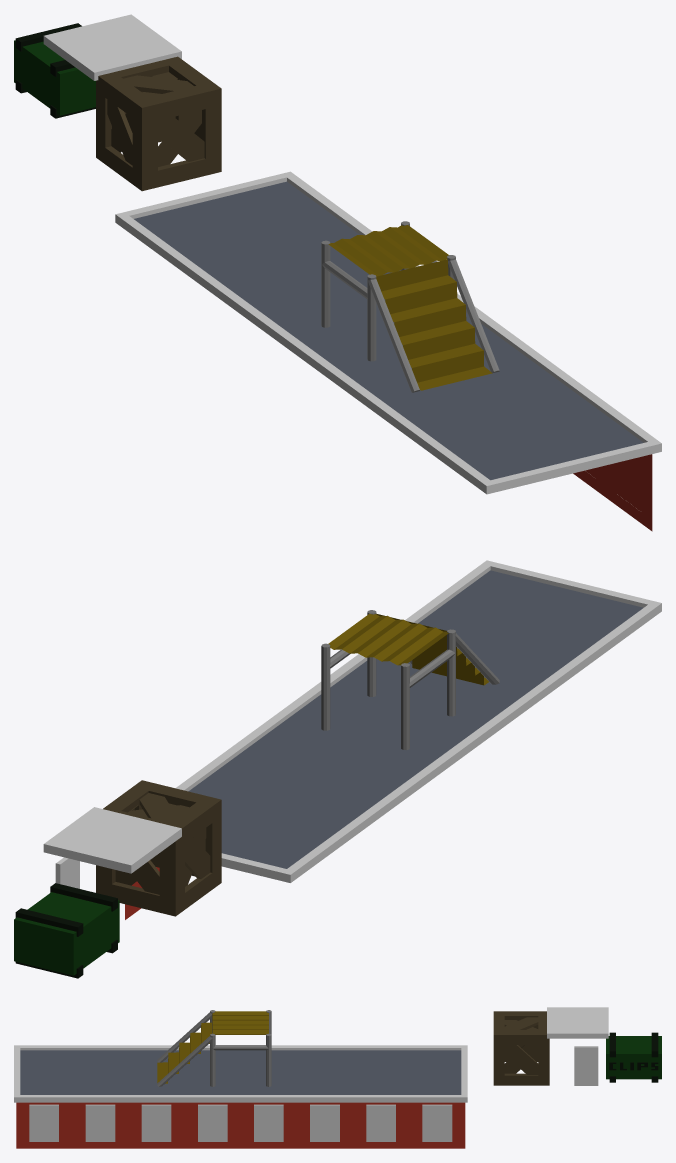
Rendered from cityscape.obj.
3 renders of one model, top to bottom at view 1: azimuth 30°, elevation 25°; view 2: azimuth 150°, elevation 25°; view 3: azimuth 270°, elevation 25°, orthographic. The views are drawn at different scales.
Parts seen in each view (by area): view 1: Plane.003_Plane.004, Crate_Cube.007, Edge.001_Cube.001, Plane.001_Plane.002, Edge_Cube.010, Ammo_Box_Cube.002, Plane_Plane.001, Plane.002_Plane.003, Supports.002_Cylinder.002, Supports_Cylinder, Bar_Cube.003; view 2: Plane.003_Plane.004, Edge.001_Cube.001, Crate_Cube.007, Ammo_Box_Cube.002, Edge_Cube.010, Plane_Plane.001, Supports_Cylinder, Bar_Cube.003, Plane.001_Plane.002, Supports.001_Cylinder.001, Door_Cube.011; view 3: Plane.003_Plane.004, Plane.002_Plane.003, Cube_Cube.004, Edge.001_Cube.001, Crate_Cube.007, Ammo_Box_Cube.002, Edge_Cube.010, Plane_Plane.001, Door_Cube.011, Plane.001_Plane.002, Supports.002_Cylinder.002, Supports_Cylinder (+2 smaller).
Part boxes in pixels (x1,y1,x2,y2): Plane.003_Plane.004: (134,181,643,480); Crate_Cube.007: (96,56,221,191); Edge.001_Cube.001: (115,171,661,494); Plane.001_Plane.002: (376,259,492,390); Edge_Cube.010: (43,14,181,80); Ammo_Box_Cube.002: (14,40,95,115); Plane_Plane.001: (328,225,448,276); Plane.002_Plane.003: (573,454,652,531); Supports.002_Cylinder.002: (368,259,499,392); Supports_Cylinder: (321,221,455,361); Bar_Cube.003: (15,23,95,118); Plane.003_Plane.004: (188,570,643,868); Edge.001_Cube.001: (176,560,661,882); Crate_Cube.007: (96,780,221,916); Ammo_Box_Cube.002: (14,892,119,975); Edge_Cube.010: (43,807,181,873); Plane_Plane.001: (328,613,448,665); Supports_Cylinder: (321,610,455,750); Bar_Cube.003: (15,883,117,978); Plane.001_Plane.002: (376,613,488,685); Supports.001_Cylinder.001: (330,649,455,687); Door_Cube.011: (55,857,79,888); Plane.003_Plane.004: (20,1050,461,1094); Plane.002_Plane.003: (16,1102,465,1148); Cube_Cube.004: (29,1104,452,1141); Edge.001_Cube.001: (14,1045,467,1102); Crate_Cube.007: (493,1011,549,1085); Ammo_Box_Cube.002: (606,1036,661,1079); Edge_Cube.010: (547,1007,608,1038); Plane_Plane.001: (212,1011,268,1034); Door_Cube.011: (574,1046,598,1085); Plane.001_Plane.002: (157,1014,212,1083); Supports.002_Cylinder.002: (157,1012,212,1086); Supports_Cylinder: (210,1010,271,1086).
Size of the model in its own units: 4.4 by 4.1 by 23.08.
